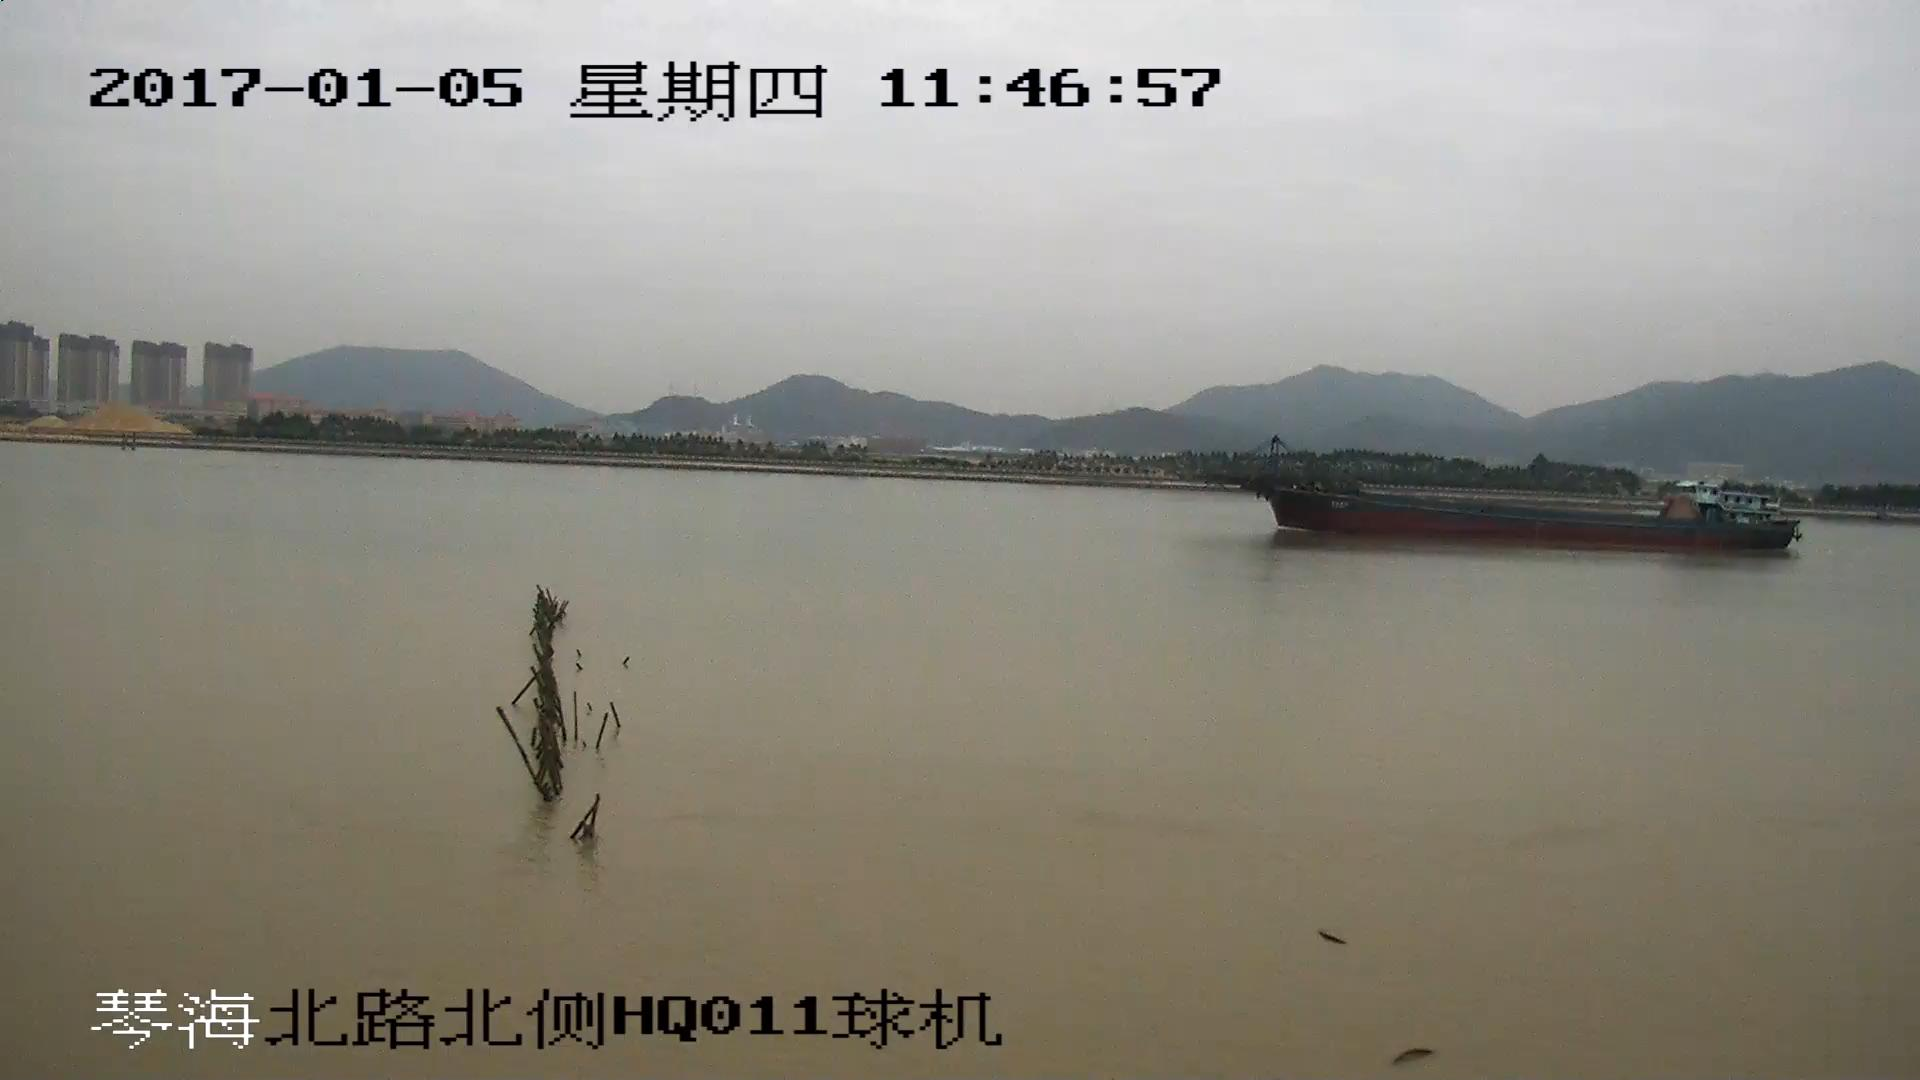bulk cargo carrier: (1209, 438, 1803, 554)
